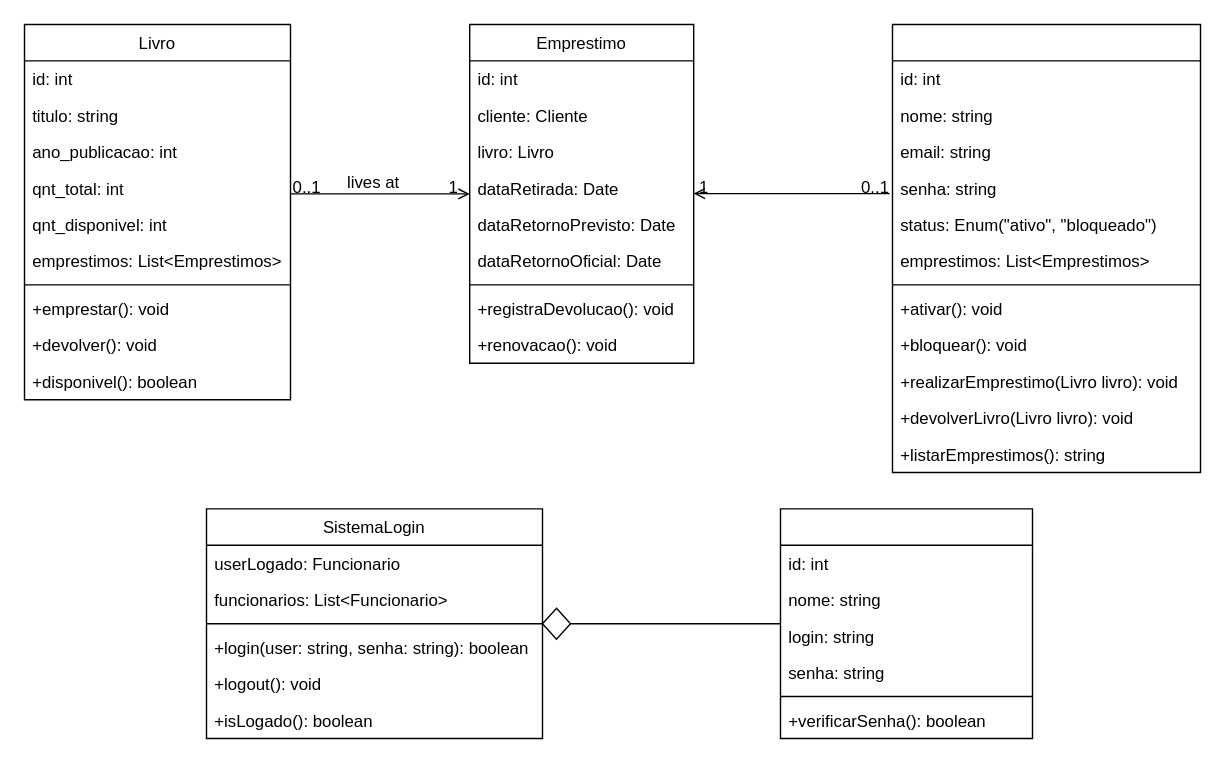
This 1225x767 diagram has some shape labels left out. The shapes that lost their labels are listed below. From the top down, each one's box as (x1, y1, x2, y2) in pixels, then its label:
(891, 23, 1200, 472): Cliente
(779, 507, 1032, 738): Funcionario
